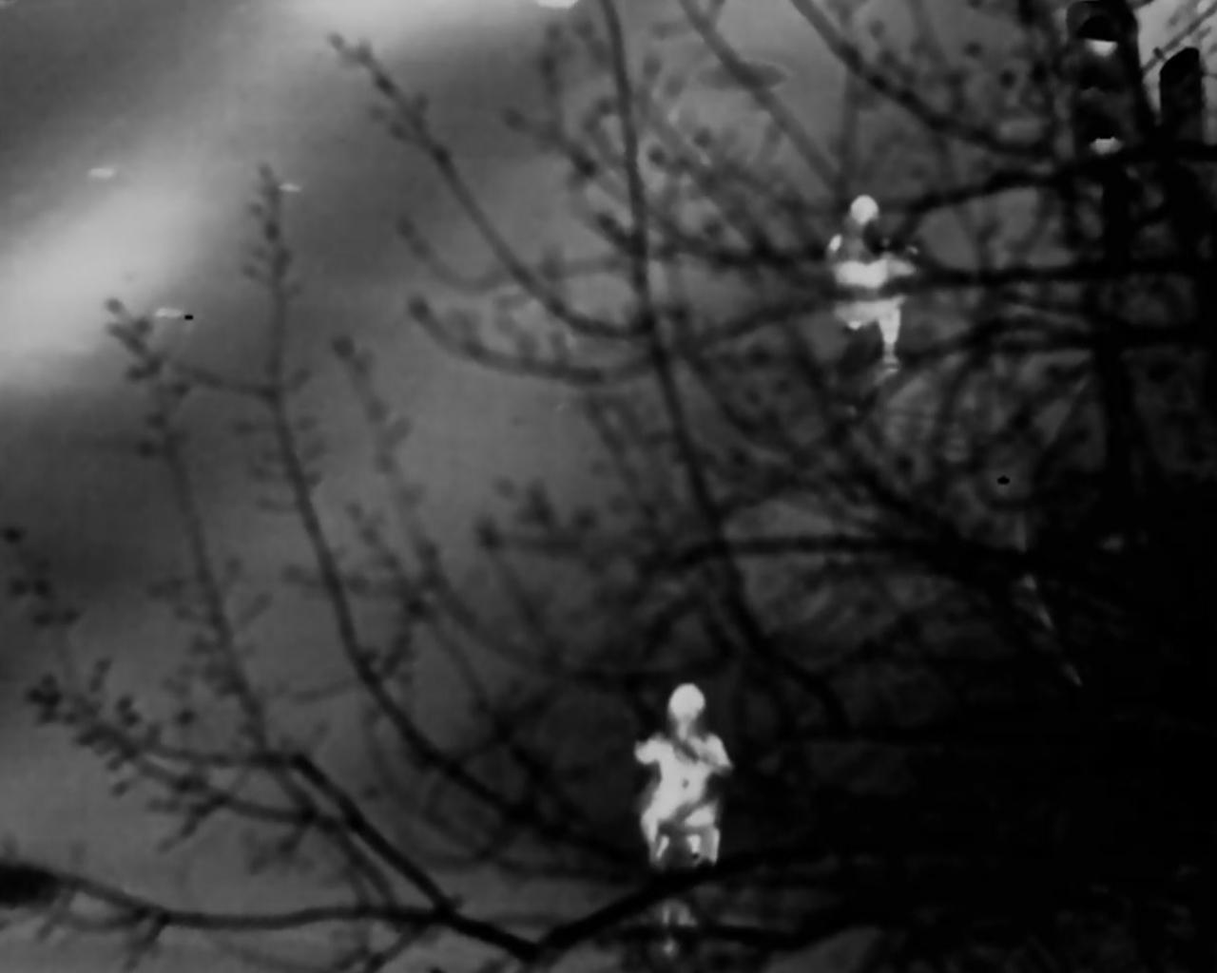person: (632, 677, 741, 897), (825, 187, 920, 393)
